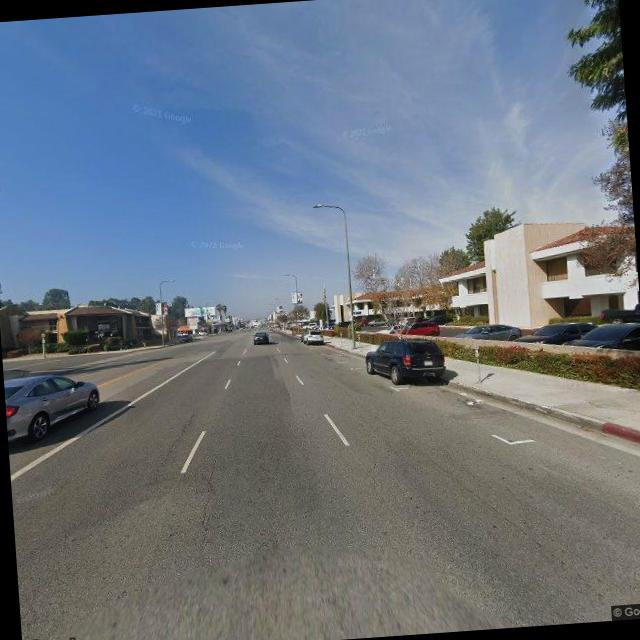crack: (189, 452, 225, 554), (153, 406, 200, 465)
